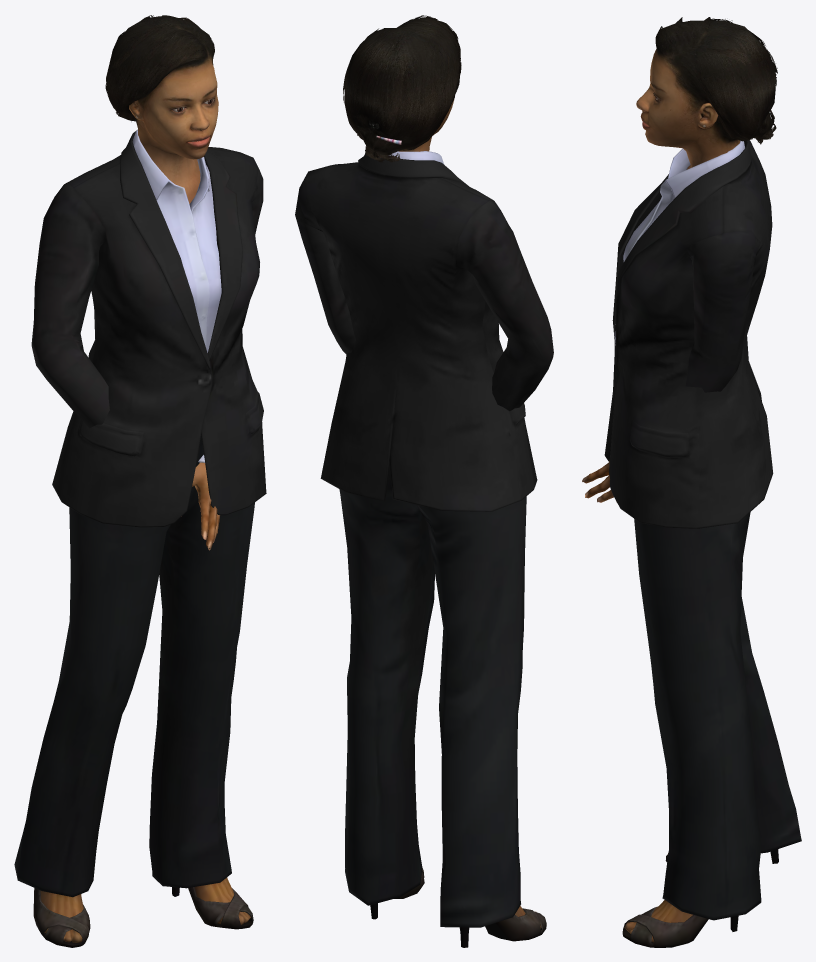
Rendered from crew-sponsor.glb.
The picture shows the model from 3 angles, left to right: view 1: azimuth 30°, elevation 25°; view 2: azimuth 150°, elevation 25°; view 3: azimuth 270°, elevation 25°; orthographic projection.
Parts seen in each view (by area): view 1: sponsor-mesh; view 2: sponsor-mesh; view 3: sponsor-mesh.
Boxes of the visible parts, box(x1,y1,x2,y2) form: sponsor-mesh: box(14, 15, 266, 947); sponsor-mesh: box(295, 15, 553, 947); sponsor-mesh: box(582, 17, 801, 947).
Bounding box in the file's own units: 0.4884 × 1.75 × 0.3871.
Materials: 3 (3 with a texture image).
